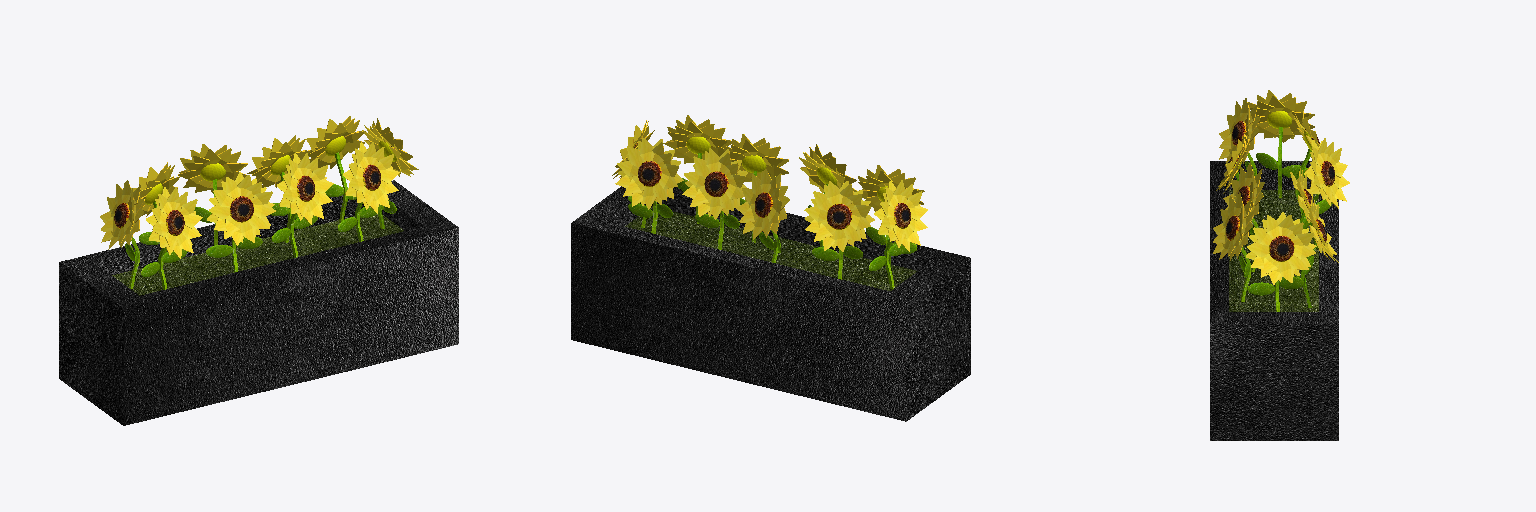
The picture shows the model from 3 angles: view 1: azimuth 30°, elevation 25°; view 2: azimuth 150°, elevation 25°; view 3: azimuth 270°, elevation 25°; orthographic projection.
Parts seen in each view (by area): view 1: polySurface1 jardinera:pCube2, jardinera:pCube2 polySurface3, pSphere8, pSphere7, pSphere9, pSphere6, pSphere12, pSphere14, pSphere11, pSphere15, pSphere10, pSphere13; view 2: polySurface1 jardinera:pCube2, jardinera:pCube2 polySurface3, pSphere13, pSphere14, pSphere15, pSphere11, pSphere12, pSphere6, pSphere7, pSphere9, pSphere8; view 3: polySurface1 jardinera:pCube2, jardinera:pCube2 polySurface3, pSphere10, pSphere11, pSphere12, pSphere6, pSphere9, pSphere7, pSphere14, pSphere8.
Part boxes in pixels (x1,y1,x2,y2): polySurface1 jardinera:pCube2: (59,180,458,425); jardinera:pCube2 polySurface3: (112,214,403,295); pSphere8: (206,172,275,272); pSphere7: (272,153,333,257); pSphere9: (141,187,202,289); pSphere6: (338,142,399,241); pSphere12: (178,144,247,245); pSphere14: (306,116,365,222); pSphere11: (100,180,144,288); pSphere15: (247,135,310,242); pSphere10: (362,118,418,228); pSphere13: (131,162,180,264); polySurface1 jardinera:pCube2: (571,186,970,421); jardinera:pCube2 polySurface3: (625,206,917,290); pSphere13: (804,181,874,279); pSphere14: (615,138,683,233); pSphere15: (682,148,747,249); pSphere11: (869,180,927,289); pSphere12: (736,169,789,262); pSphere6: (663,115,731,223); pSphere7: (723,134,788,242); pSphere9: (858,165,924,266); pSphere8: (799,144,856,246); polySurface1 jardinera:pCube2: (1210,161,1338,440); jardinera:pCube2 polySurface3: (1229,190,1318,311); pSphere10: (1246,212,1316,311); pSphere11: (1248,90,1314,197); pSphere12: (1303,138,1349,248); pSphere6: (1213,192,1253,301); pSphere9: (1219,98,1260,175); pSphere7: (1223,162,1264,271); pSphere14: (1301,198,1338,307); pSphere8: (1216,131,1249,193).
Bounding box in the file's own units: 3.96 × 2.33 × 1.44.
Materials: 7 (5 with a texture image).